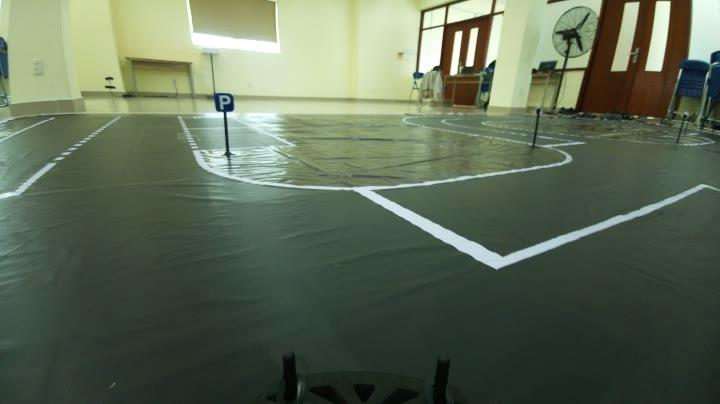parking: (210, 89, 240, 111)
